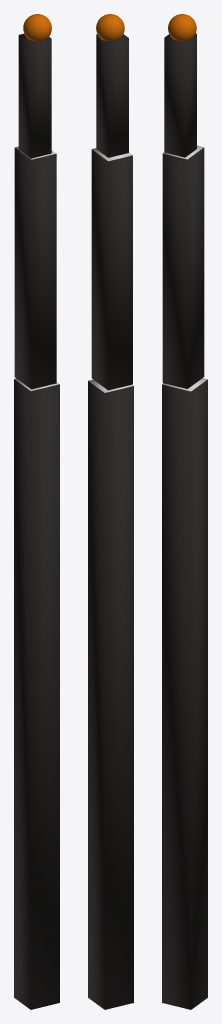
Rendered from Asta.obj.
3 renders of one model, left to right at view 1: azimuth 30°, elevation 25°; view 2: azimuth 210°, elevation 25°; view 3: azimuth 330°, elevation 25°, orthographic.
Parts seen in each view (by area): view 1: Esfera; view 2: Esfera; view 3: Esfera.
Part boxes in pixels (x1,y1,x2,y2): Esfera: (14, 14, 59, 1009); Esfera: (88, 14, 133, 1009); Esfera: (162, 14, 207, 1009).
Bounding box in the file's own units: 0.7 × 22.67 × 0.7174.
